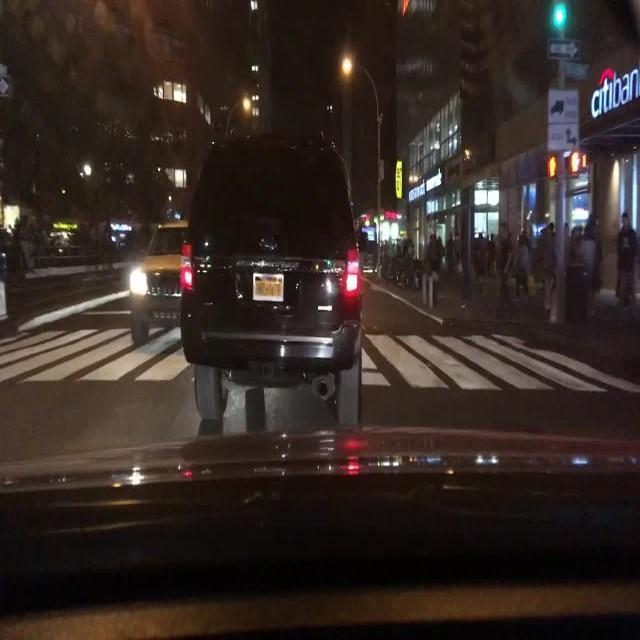normal: (129, 222, 190, 344)
